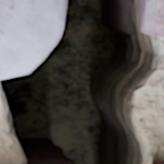broken_brick: (0, 0, 61, 77), (146, 0, 163, 37)
crack: (0, 0, 162, 163)
